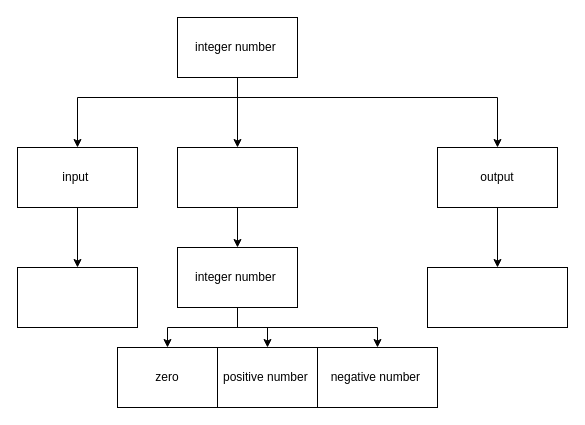
Image size: 585x425. Some labels were removed from this diagram. Here are the shapes that lost their labels. From the top down, the centre of each, then its label:
At pixel 237 177: "process".
At pixel 77 297: "write integer number".
At pixel 497 297: "print integer number status".
